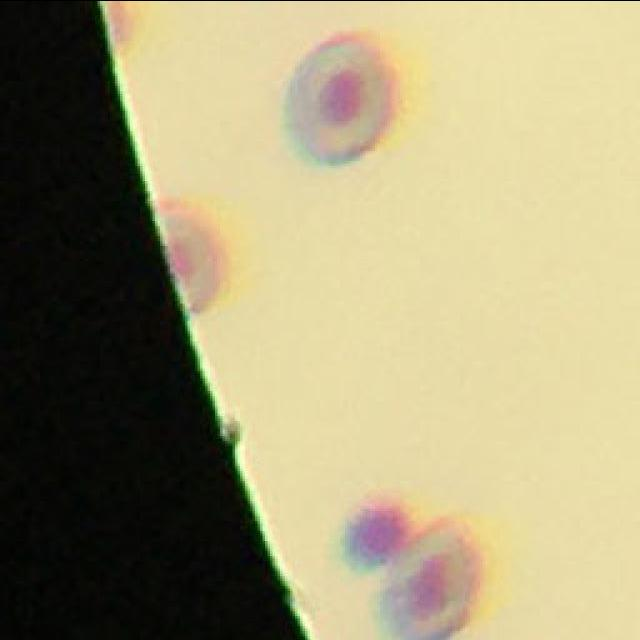RBC: (284, 41, 392, 163), (377, 524, 483, 640), (154, 197, 230, 313)
WBC: (344, 504, 409, 572)
